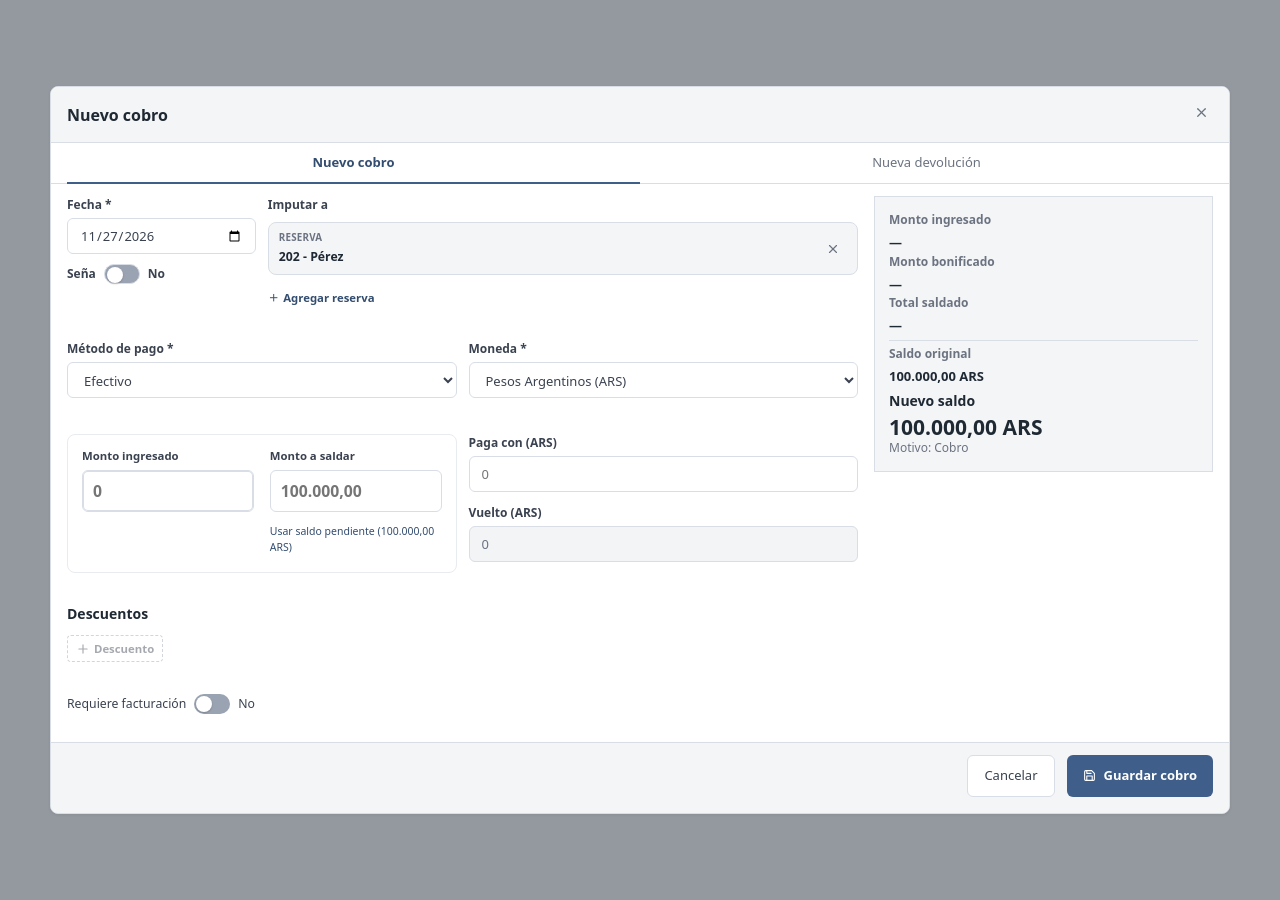
Test case: CobroForm facturación › valor manual: no auto-commit al tipear; Enter/Aceptar confirma; Modificar reabre
Type "10000" into the number field labelled "Monto ingresado" at (168, 492), box top-left (82, 470), bottom-right (254, 512)
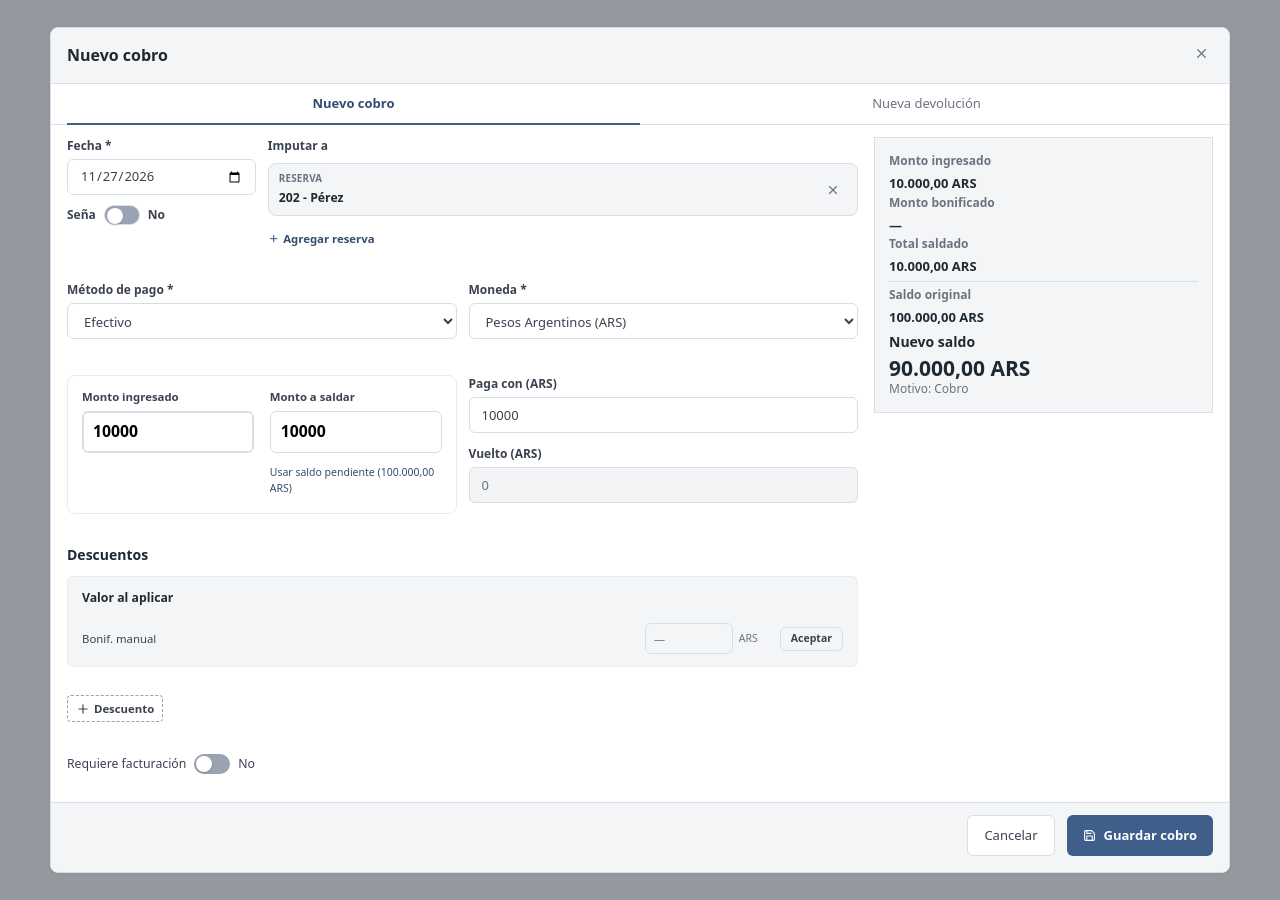
Type "1000" into the number field with test id "payment-manual-promo-input-40" at (689, 639), box top-left (645, 623), bottom-right (733, 654)
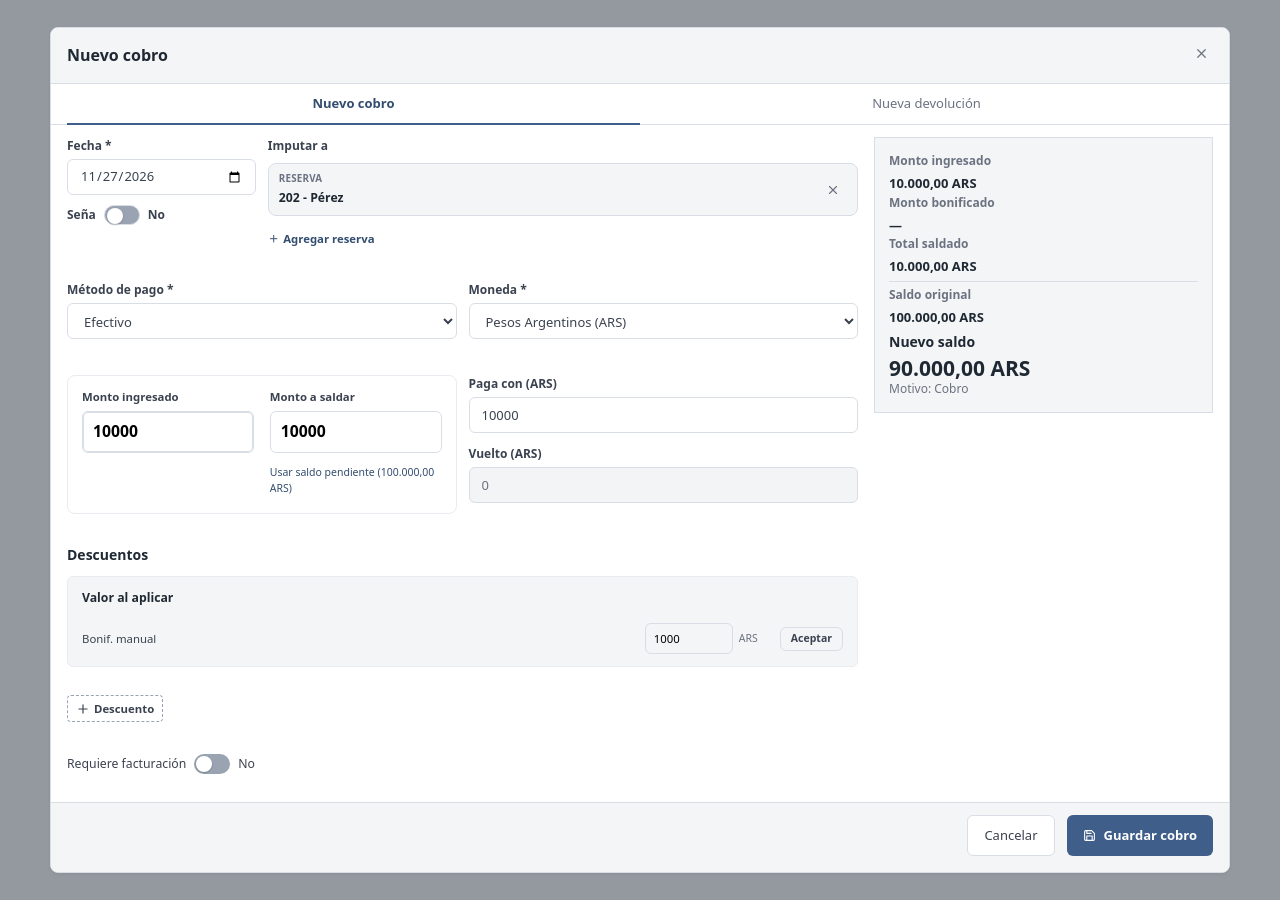
Press Enter in the number field with test id "payment-manual-promo-input-40", box top-left (645, 623), bottom-right (733, 654)
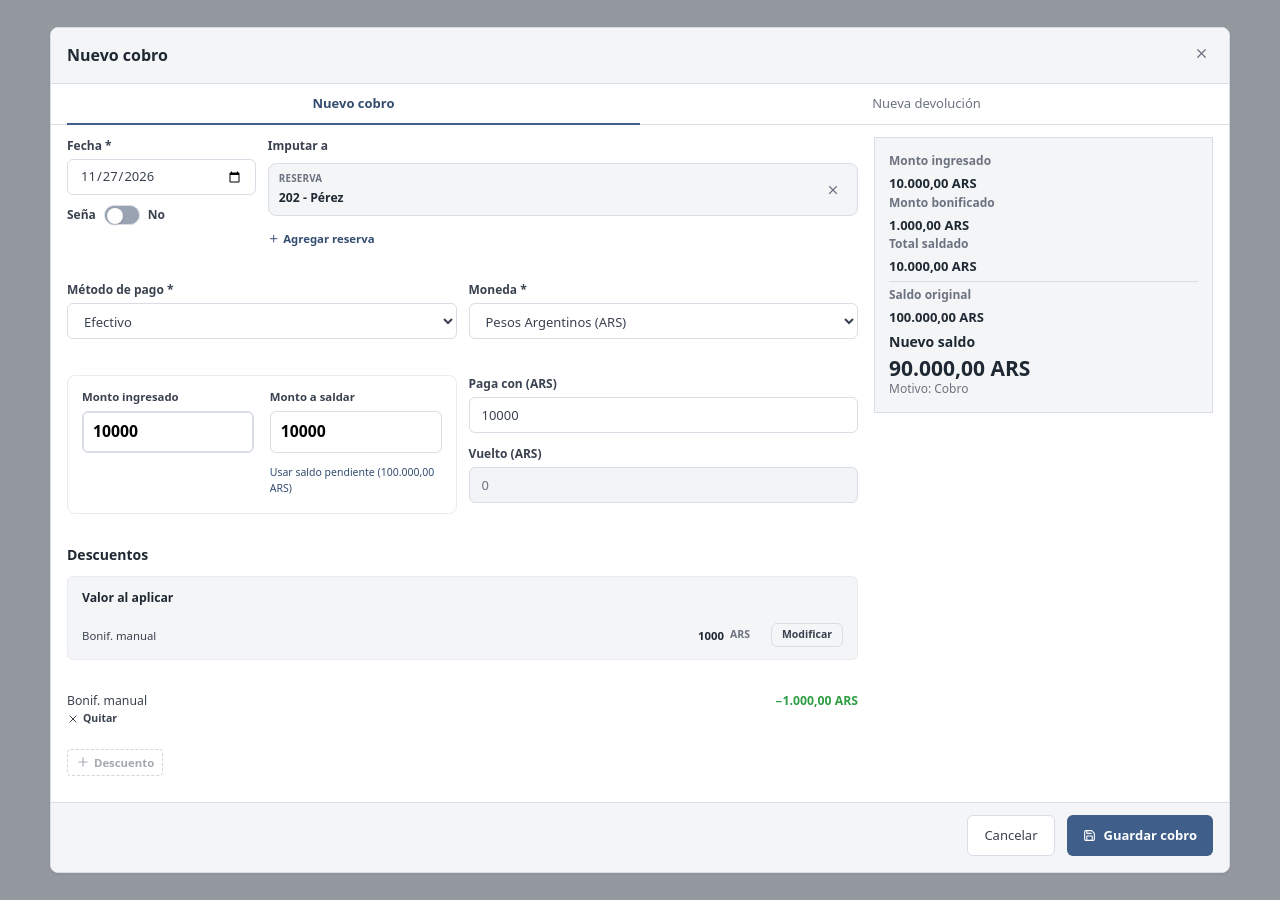
Expected: the element with test id "payment-manual-promo-value-40" shows "1000", top-left (698, 628), bottom-right (724, 642)
Expected: the number field with test id "payment-manual-promo-input-40" is gone
Click the button with test id "payment-manual-promo-modify-40" at (807, 635), box top-left (771, 623), bottom-right (843, 647)
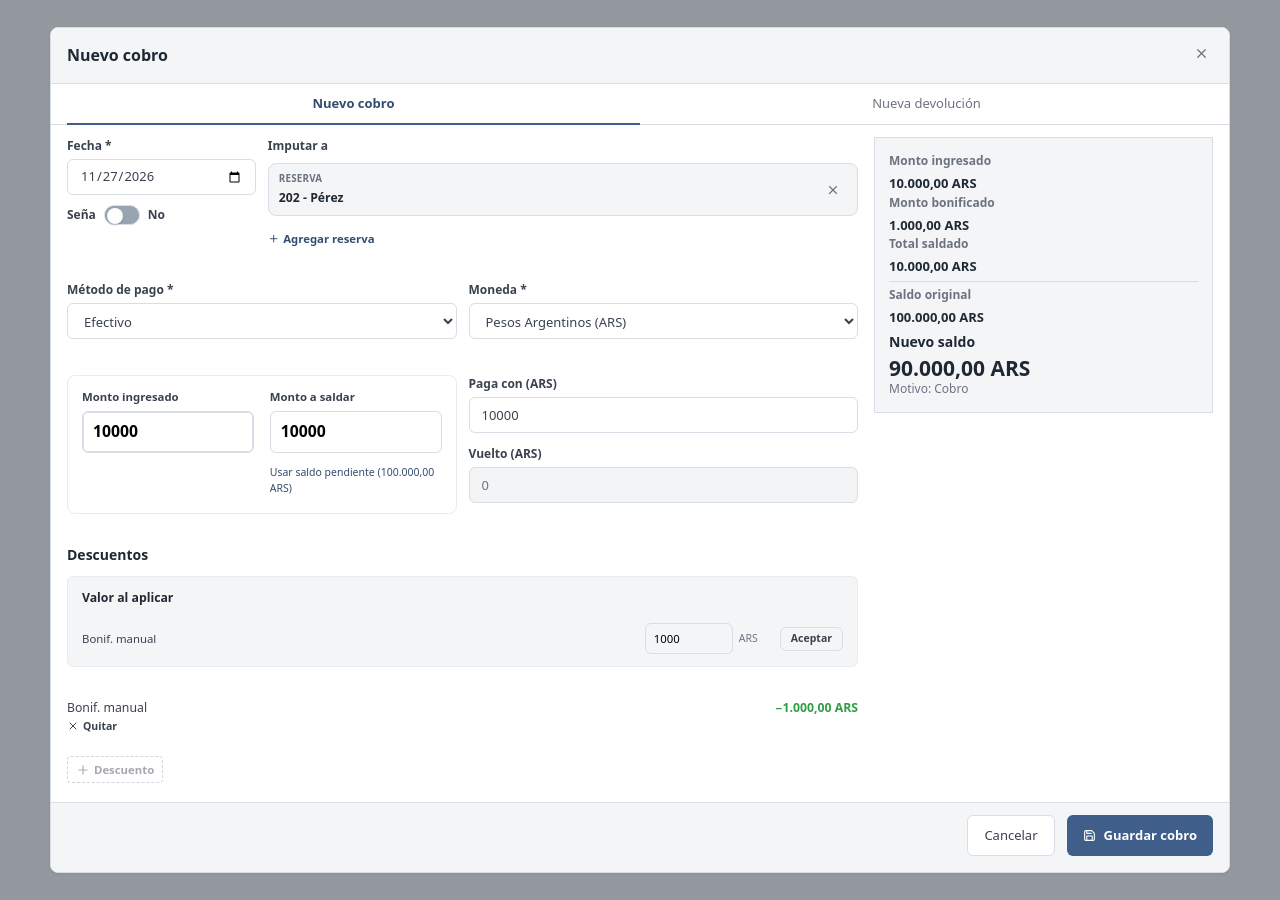
Expected: the number field with test id "payment-manual-promo-input-40" holds "1000"
Replace the text in the number field with test id "payment-manual-promo-input-40" with "500" at (689, 639), box top-left (645, 623), bottom-right (733, 654)
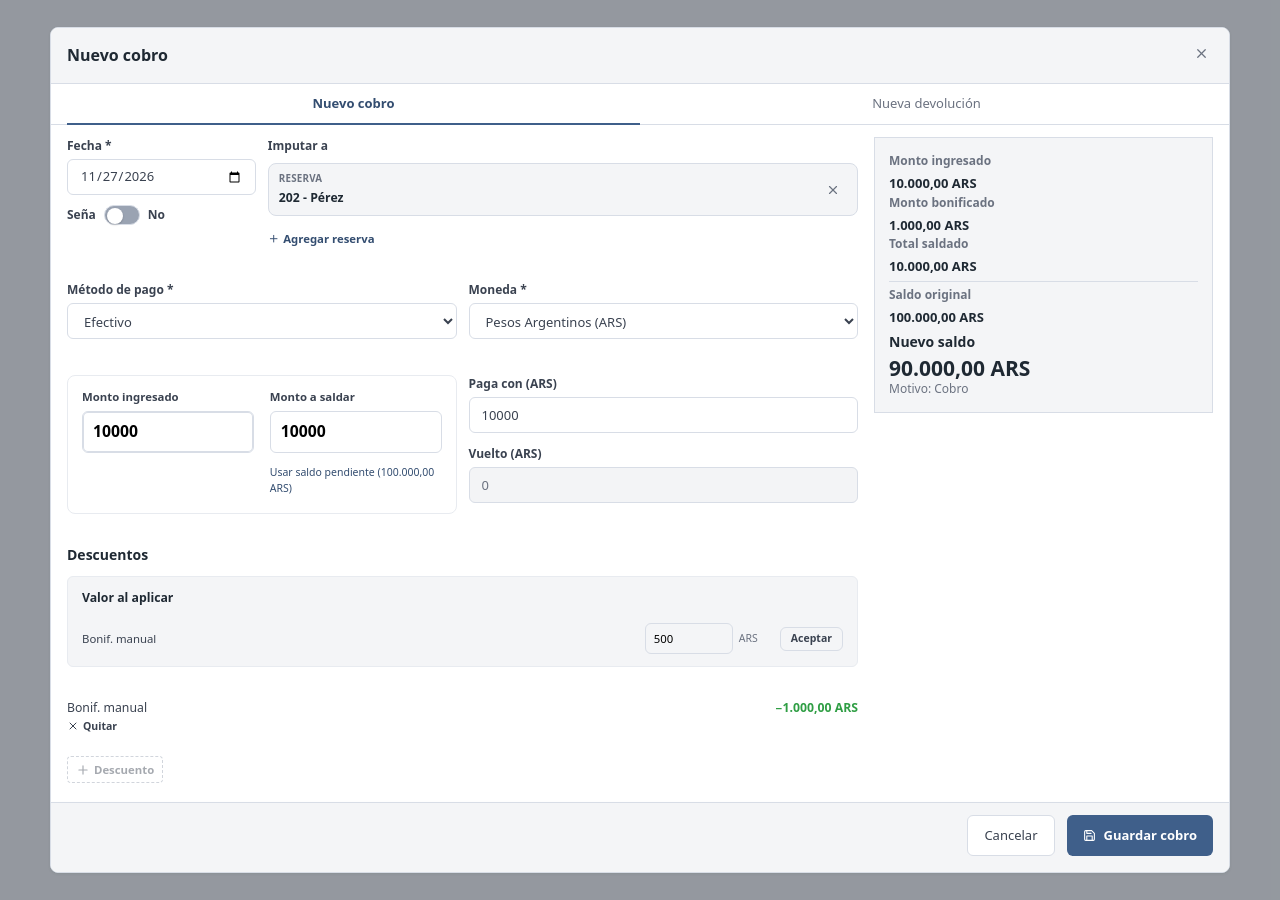
Click the button with test id "payment-manual-promo-accept-40" at (811, 639), box top-left (780, 627), bottom-right (843, 651)
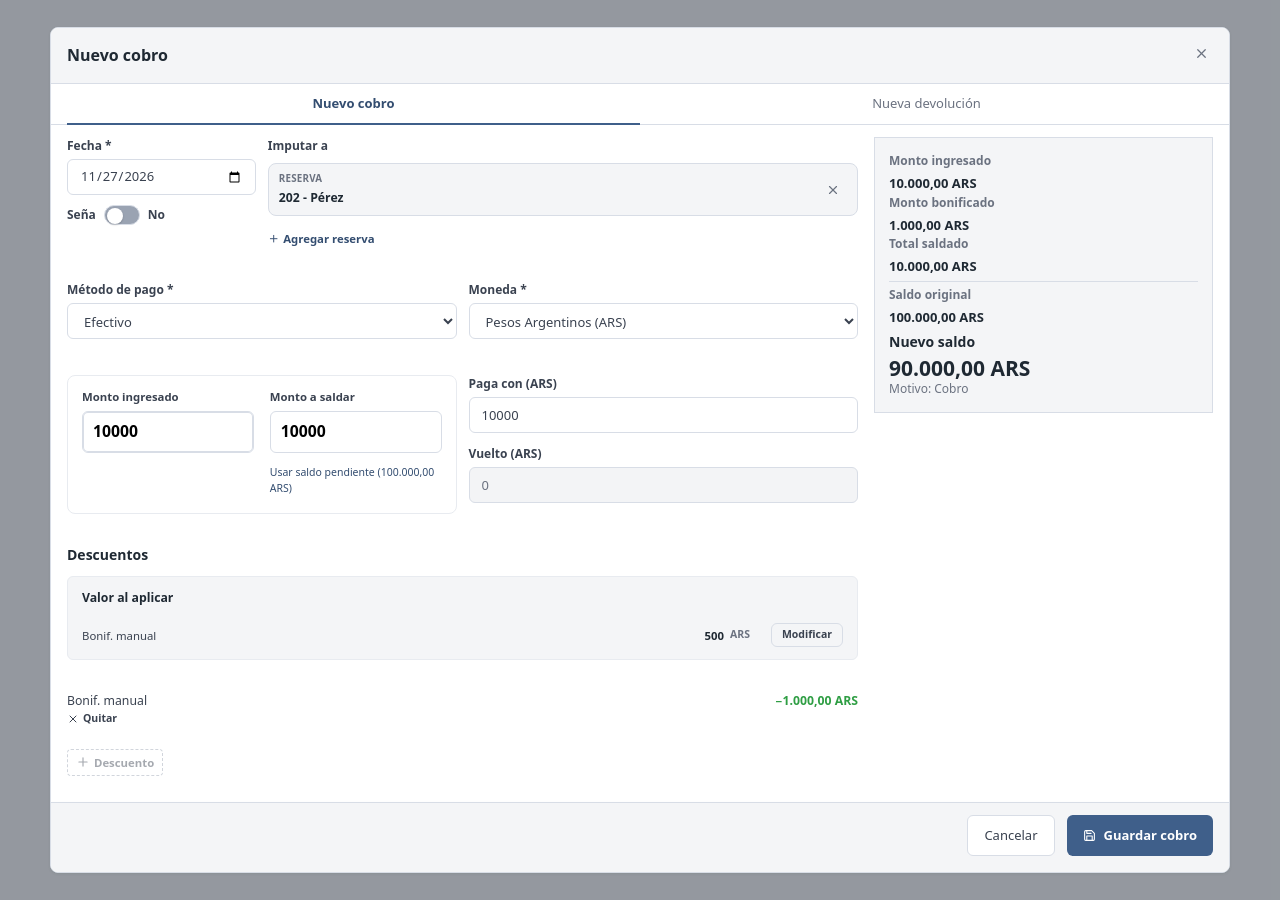
Expected: the element with test id "payment-manual-promo-value-40" shows "500", top-left (704, 628), bottom-right (724, 642)
